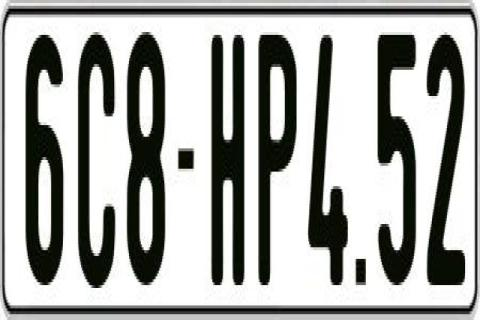0: (123, 26, 168, 288), (306, 27, 350, 286), (25, 26, 68, 288), (376, 32, 414, 288), (424, 26, 460, 294)
C: (75, 35, 113, 297)
H: (212, 27, 250, 286)
P: (260, 35, 302, 291)
